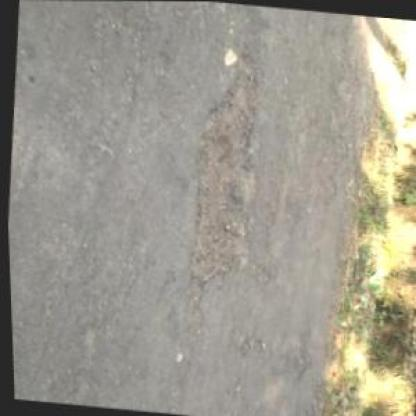pothole: (173, 47, 272, 293), (288, 320, 310, 378)
